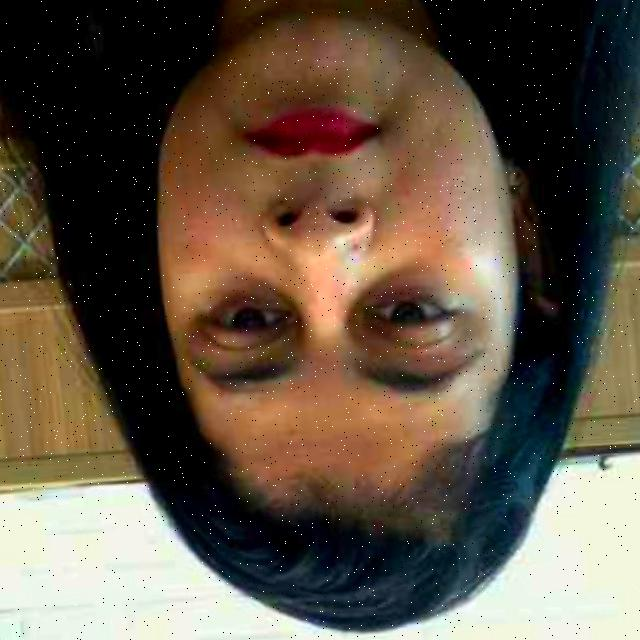puffy_eyes: (358, 270, 458, 311), (229, 275, 308, 317)
